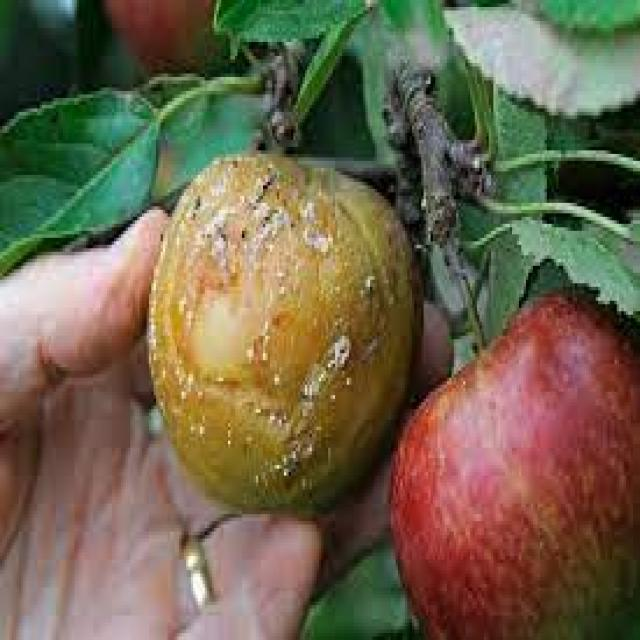Fresh Apple: (385, 310, 640, 640)
Rotten: (142, 146, 426, 551)
